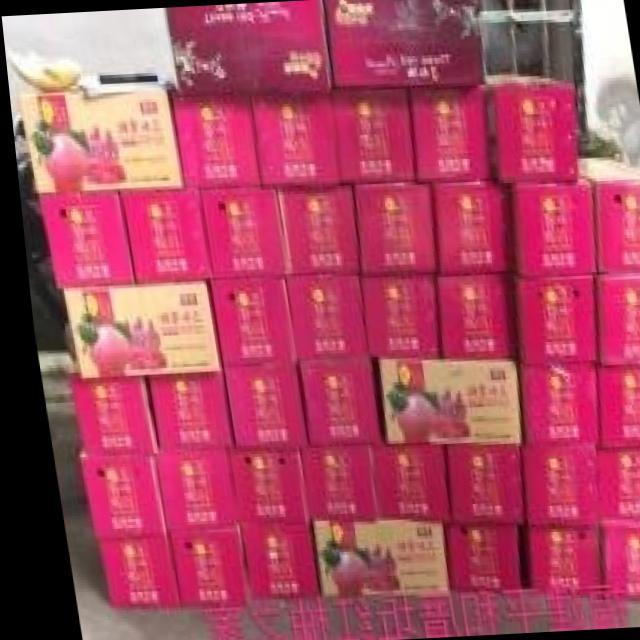box: (19, 81, 178, 193), (55, 281, 212, 381), (166, 0, 330, 95), (325, 0, 483, 90), (371, 356, 511, 446), (299, 520, 438, 606), (483, 76, 576, 183), (35, 192, 129, 289), (503, 176, 591, 279), (170, 92, 259, 188), (116, 188, 204, 285), (194, 187, 283, 278), (68, 449, 155, 542), (249, 93, 335, 187), (350, 181, 433, 276), (507, 271, 591, 364), (271, 185, 355, 277), (406, 88, 488, 182), (330, 89, 411, 183), (576, 157, 640, 275), (290, 360, 375, 448), (205, 277, 287, 368), (428, 181, 507, 274), (63, 373, 149, 457), (216, 367, 299, 452), (509, 361, 590, 448), (279, 279, 361, 364), (144, 453, 229, 535), (139, 374, 225, 453), (360, 444, 441, 526), (508, 525, 590, 606), (511, 446, 591, 527), (431, 274, 507, 359), (435, 446, 515, 526), (218, 449, 297, 528), (157, 534, 239, 610), (355, 278, 432, 357), (289, 445, 368, 521), (434, 525, 510, 602), (87, 538, 167, 611), (229, 527, 307, 601), (590, 272, 640, 366), (587, 523, 640, 603), (589, 366, 640, 449), (588, 448, 640, 522)
